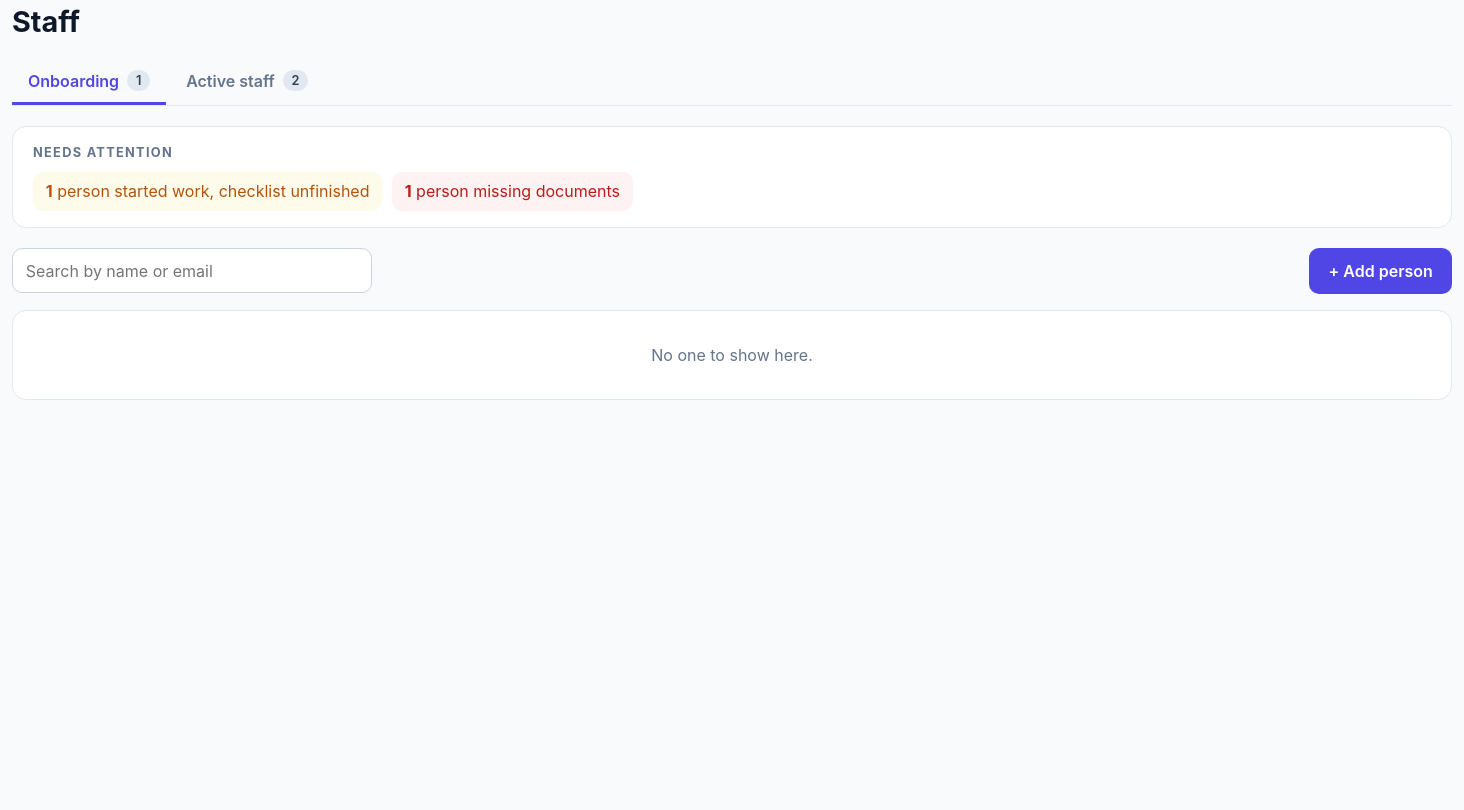
it: Dashboard › adding a person › shows the server's error and keeps the form open
The image size is (1464, 810).
Click the button "+ Add person".
click(1381, 271)  # box [1309,248,1452,294]
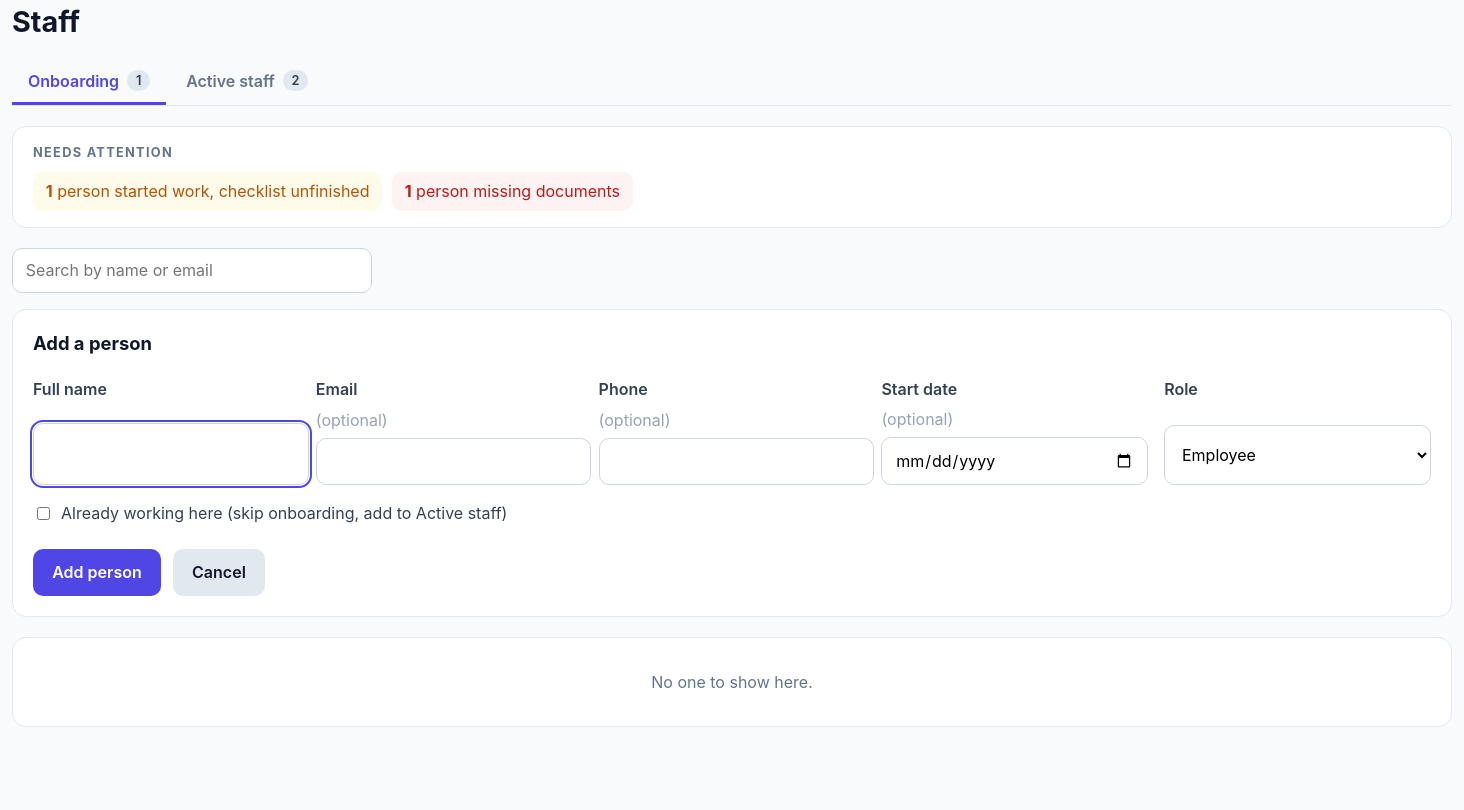
Type "Dupe" into the field labelled "Full name".
click(171, 454); type("Dupe")  # box [33,423,309,485]
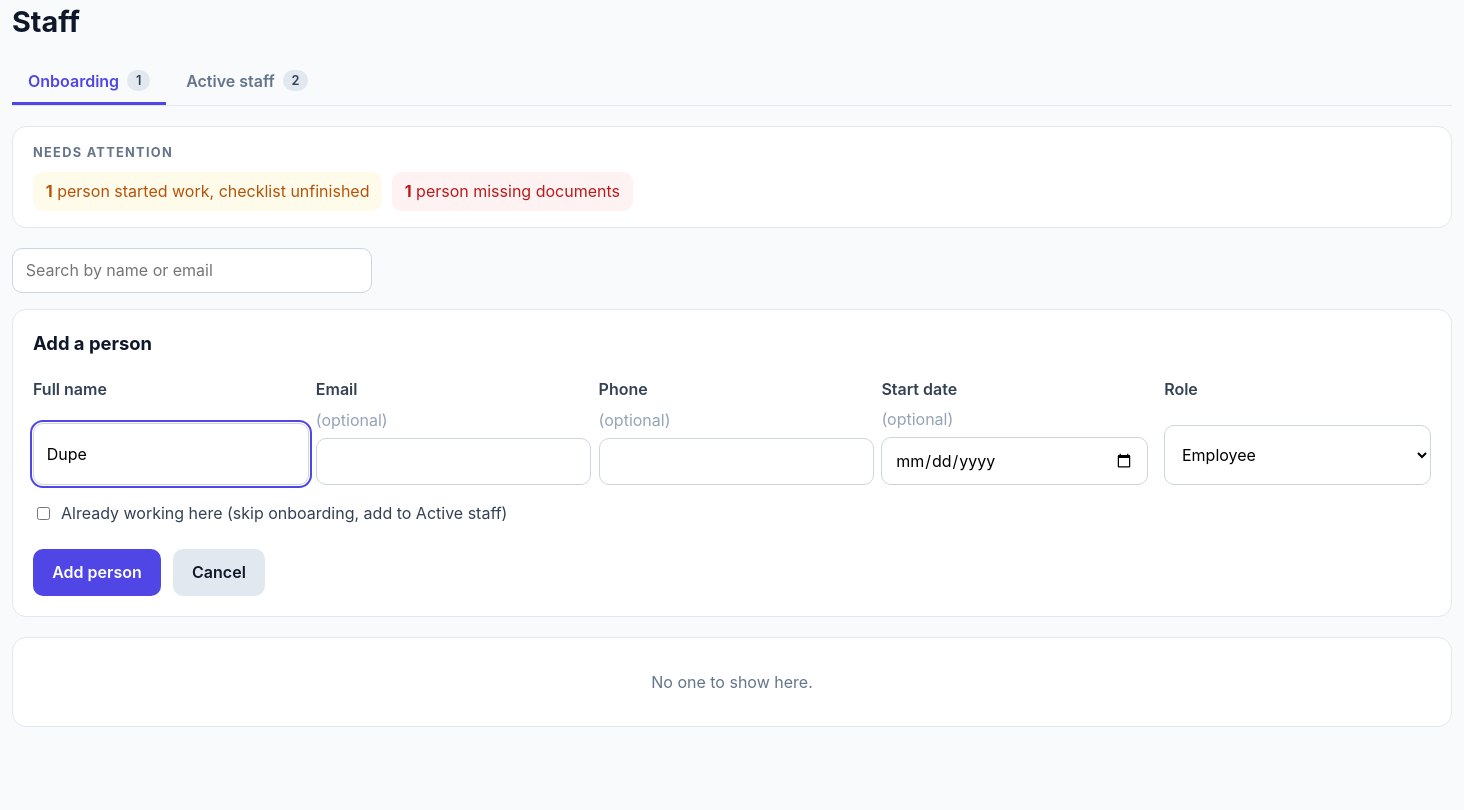
Click the button "Add person".
click(97, 572)  # box [33,549,161,596]
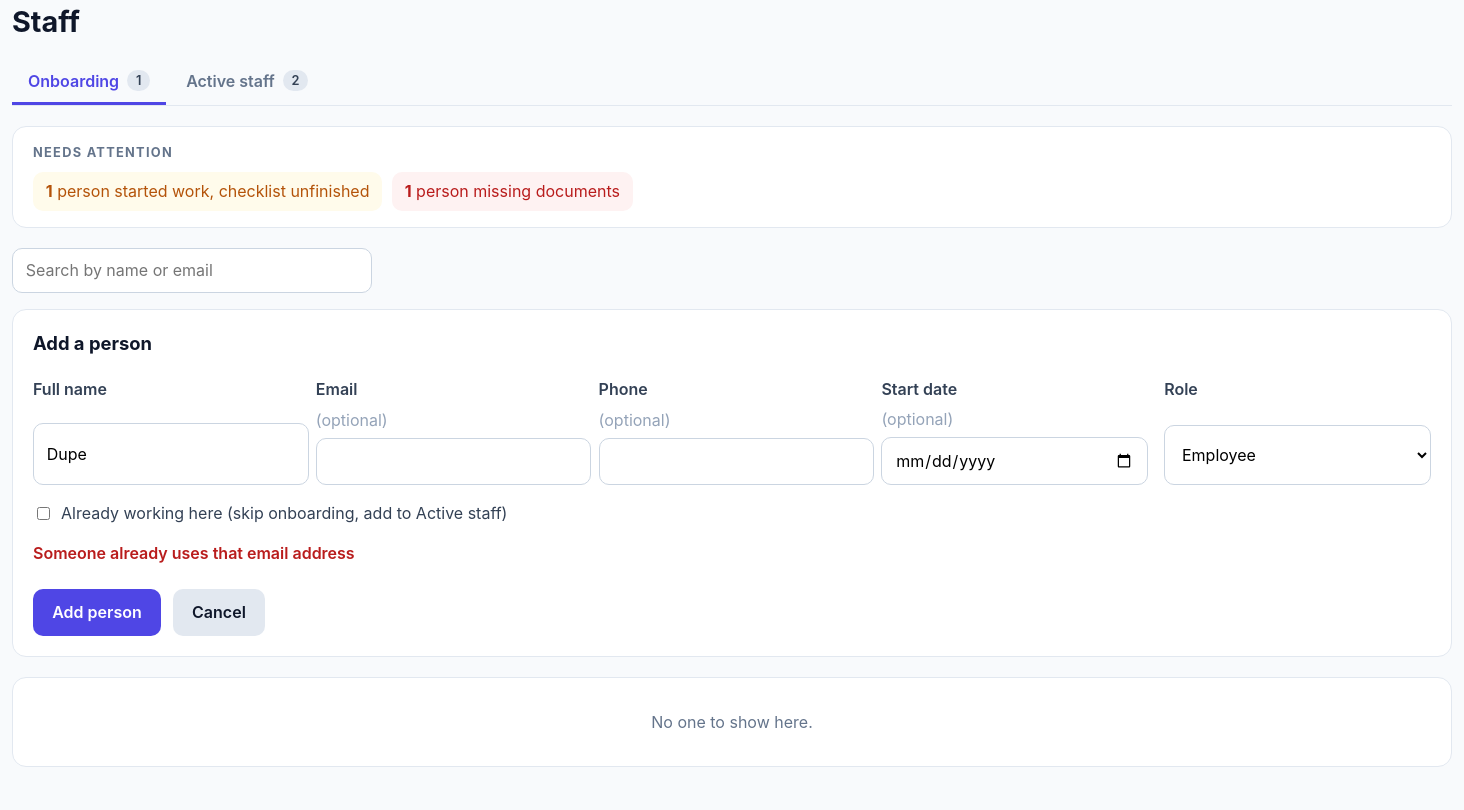
Expected: the message reads "Someone already uses that email address", [33,543,355,563]
